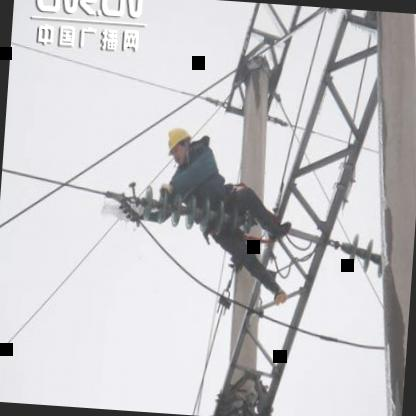helmet: (162, 121, 196, 166)
